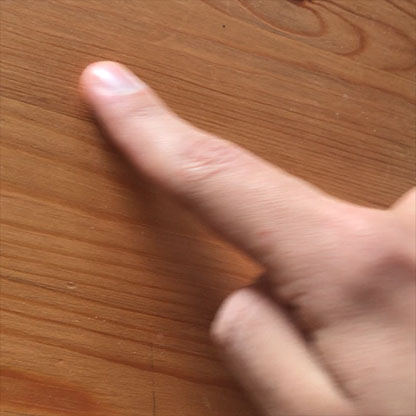fingertip: (64, 58, 164, 109)
